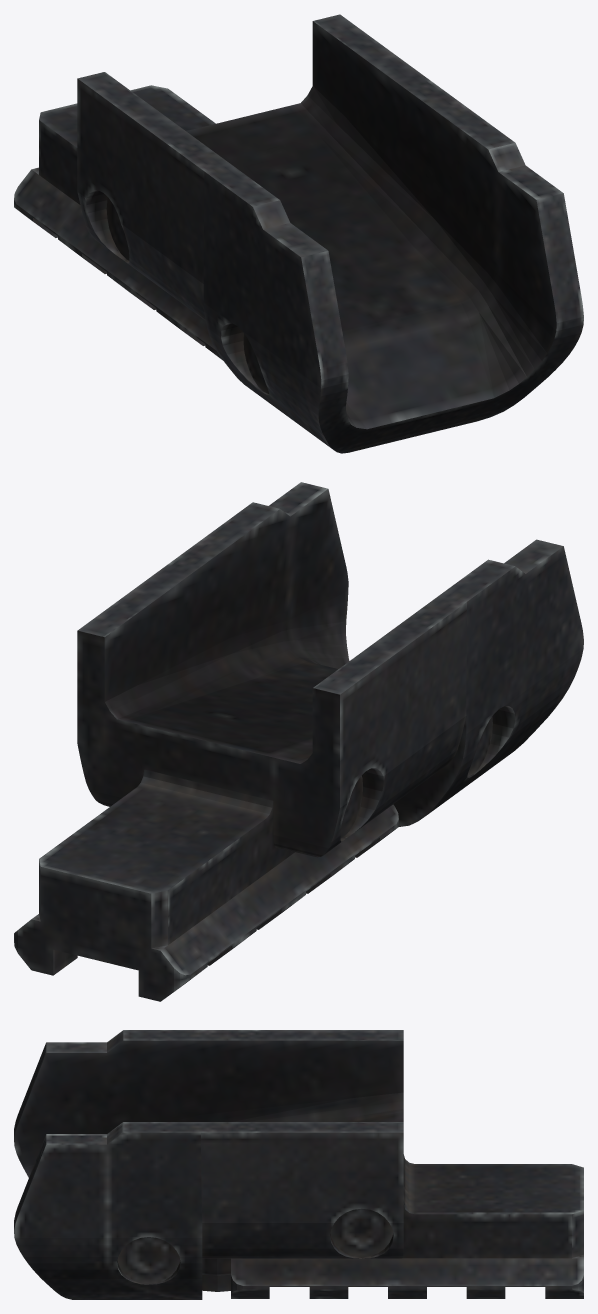
3 views of the same model, one above another, from view 1: azimuth 30°, elevation 25°; view 2: azimuth 150°, elevation 25°; view 3: azimuth 270°, elevation 25° (orthographic). The views are drawn at different scales.
Visible parts, largest first — view 1: TW_5a27b281c4a28200741e1e52_PZ_Import; view 2: TW_5a27b281c4a28200741e1e52_PZ_Import; view 3: TW_5a27b281c4a28200741e1e52_PZ_Import.
Boxes of the visible parts, bbox=[...] form: TW_5a27b281c4a28200741e1e52_PZ_Import: bbox=[14, 14, 583, 453]; TW_5a27b281c4a28200741e1e52_PZ_Import: bbox=[14, 482, 583, 1001]; TW_5a27b281c4a28200741e1e52_PZ_Import: bbox=[14, 1030, 583, 1299].
Size of the model in its own units: 0.0184 by 0.0434 by 0.0162.
1 material, 1 textured.
